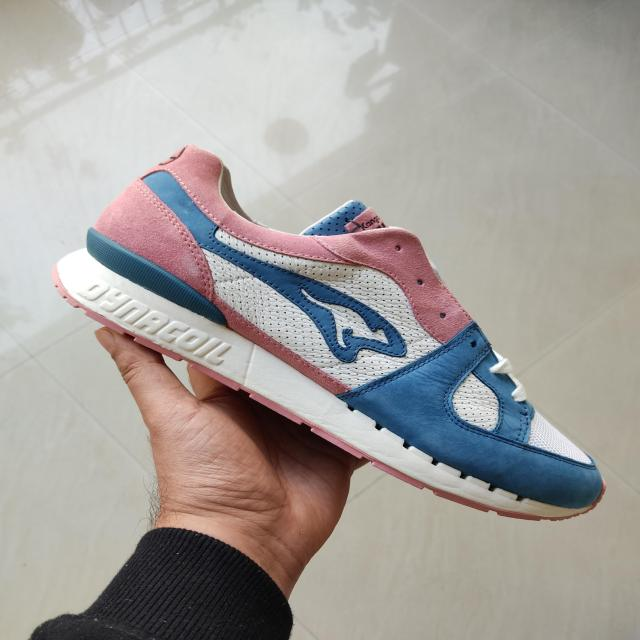shoe: (56, 125, 640, 597)
